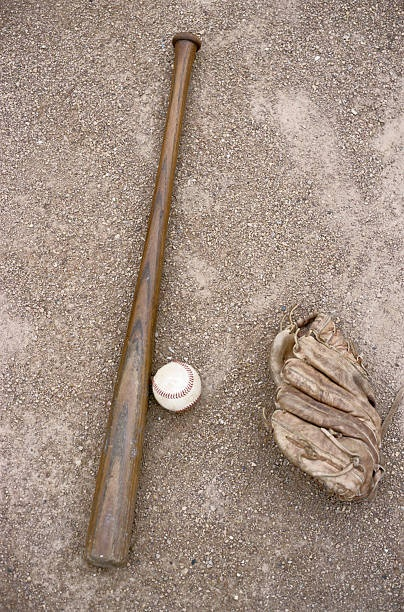bita: (86, 18, 197, 566)
